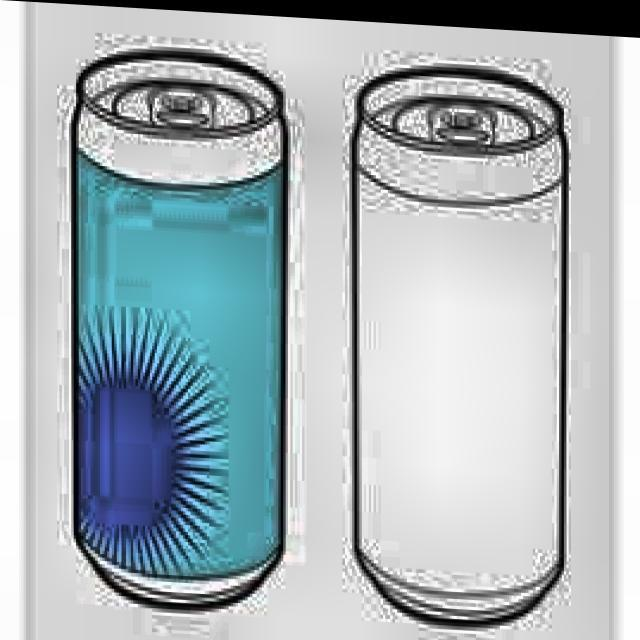can: (354, 46, 564, 612), (75, 41, 278, 598)
